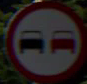No overtake: (9, 3, 78, 73)
